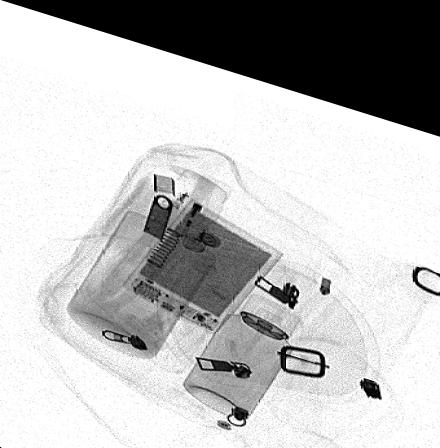Lighter: (172, 162, 232, 242)
Powerbank: (122, 185, 284, 326)
Sprayer: (182, 280, 299, 405)
